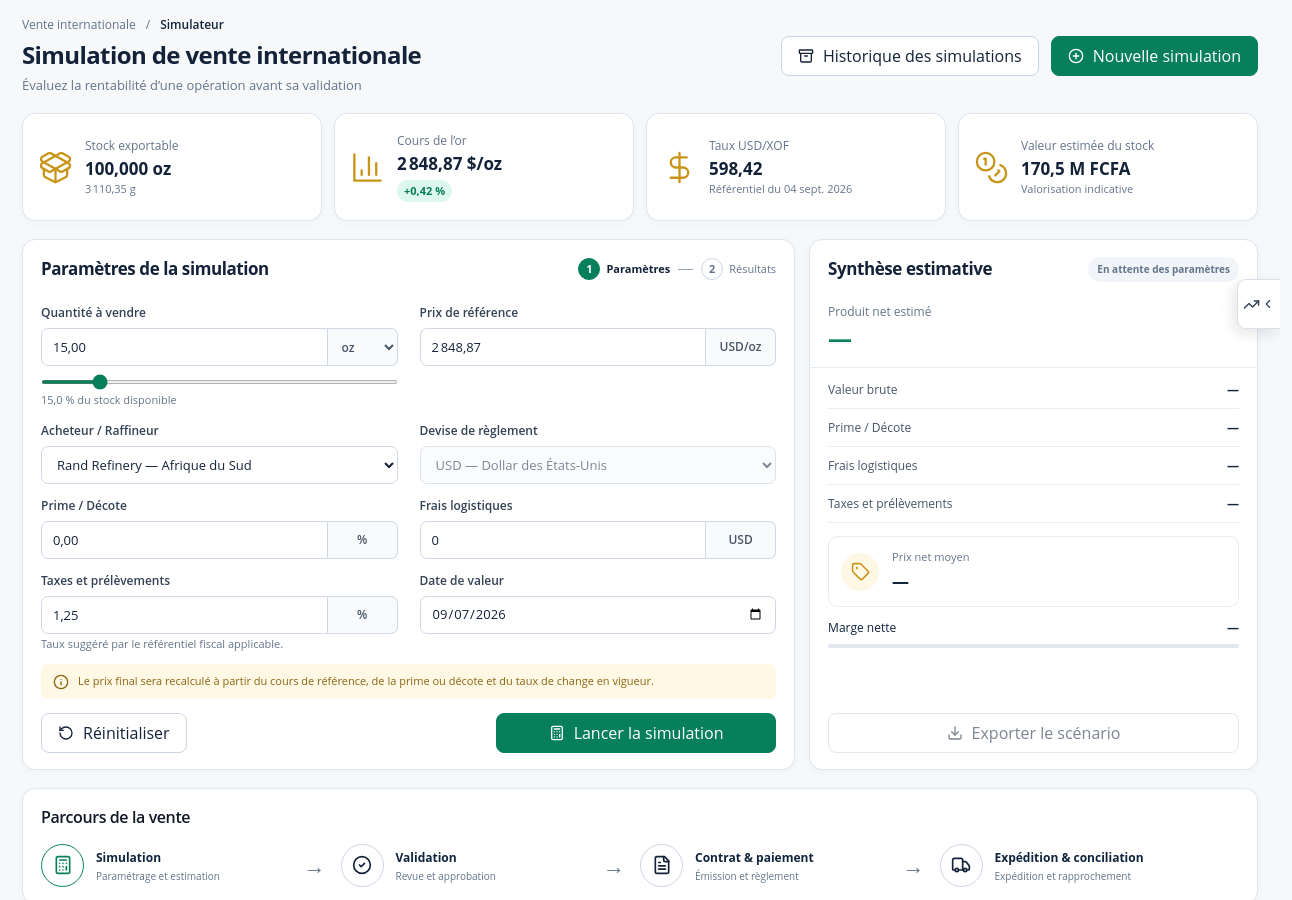
Scenario: InternationalSaleSimulator › calcule, historise et affiche la synthèse sans recharger la page
Expected: the text "Stock exportable" is shown, [85,137,178,155]
Click the button "Lancer la simulation": (636, 733) [496,713,776,753]
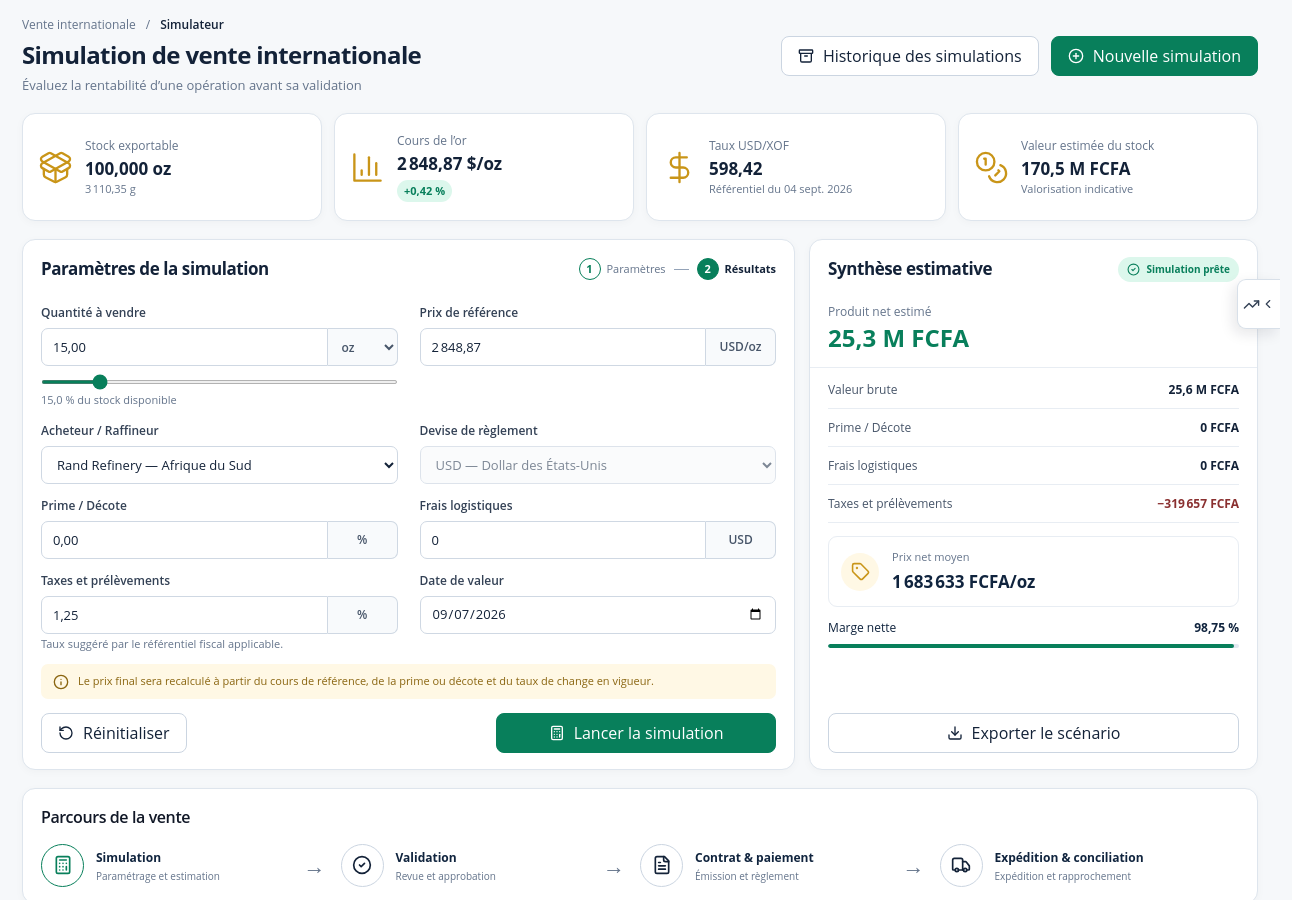
Expected: the text "Simulation prête" is shown, [1118,257,1239,282]
Expected: the text "25,3 M FCFA" is shown, [828,321,969,354]
